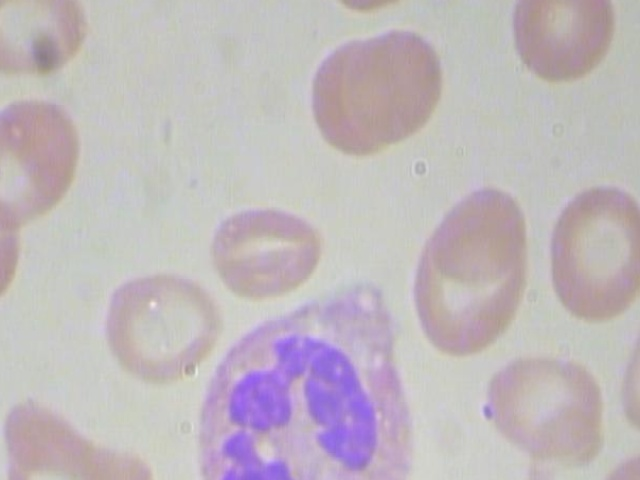RBC: (535, 175, 640, 327), (197, 183, 326, 304), (93, 269, 222, 390), (482, 340, 611, 461), (0, 87, 91, 235), (340, 22, 443, 146), (503, 0, 621, 98), (432, 170, 525, 285), (0, 0, 91, 82)
WBC: (192, 267, 418, 480)
